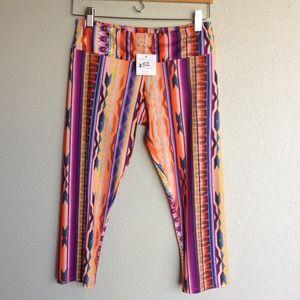C_W_pants: (55, 15, 233, 297)
